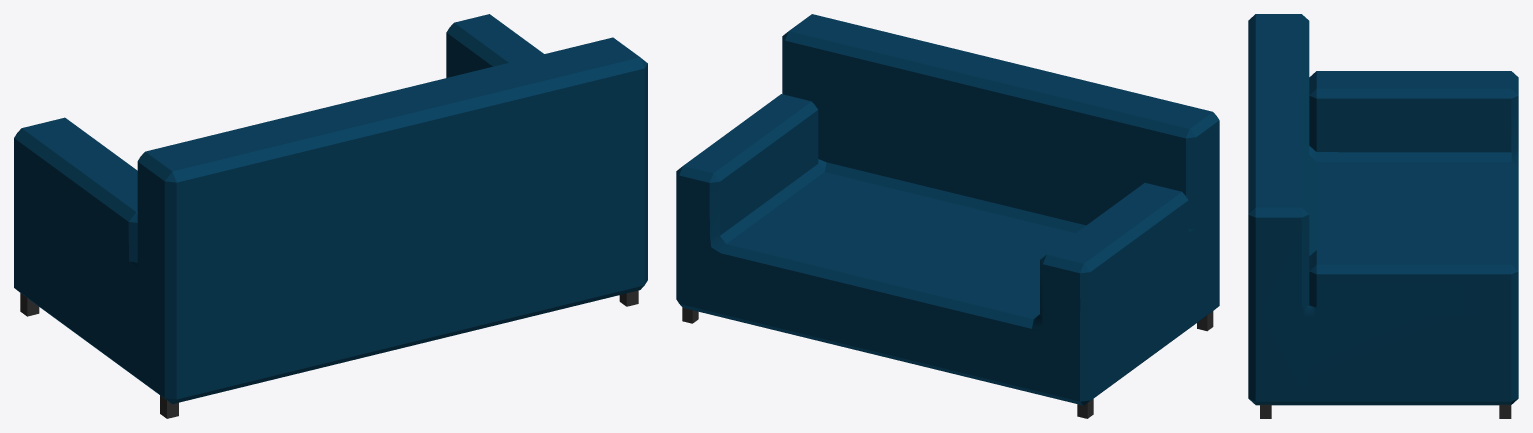
Rendered from Couch.fbx.
3 views of the same model, side by side, from view 1: azimuth 30°, elevation 25°; view 2: azimuth 150°, elevation 25°; view 3: azimuth 270°, elevation 25° (orthographic). The views are drawn at different scales.
Visible parts, largest first — view 1: pCube7; view 2: pCube7; view 3: pCube7.
Boxes of the visible parts, x1=… form: pCube7: x1=14, y1=14, x2=647, y2=418; pCube7: x1=676, y1=14, x2=1219, y2=418; pCube7: x1=1248, y1=14, x2=1518, y2=418.
Size of the model in its own units: 5.26 by 2.59 by 3.01.
